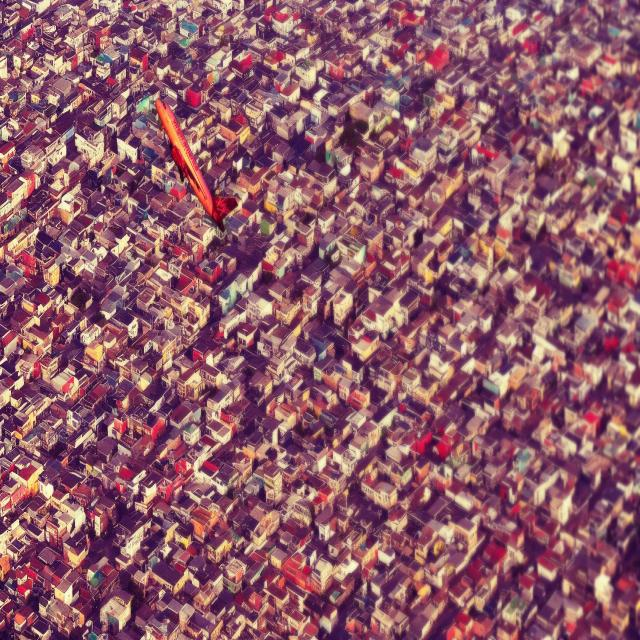airplane: (154, 97, 239, 233)
